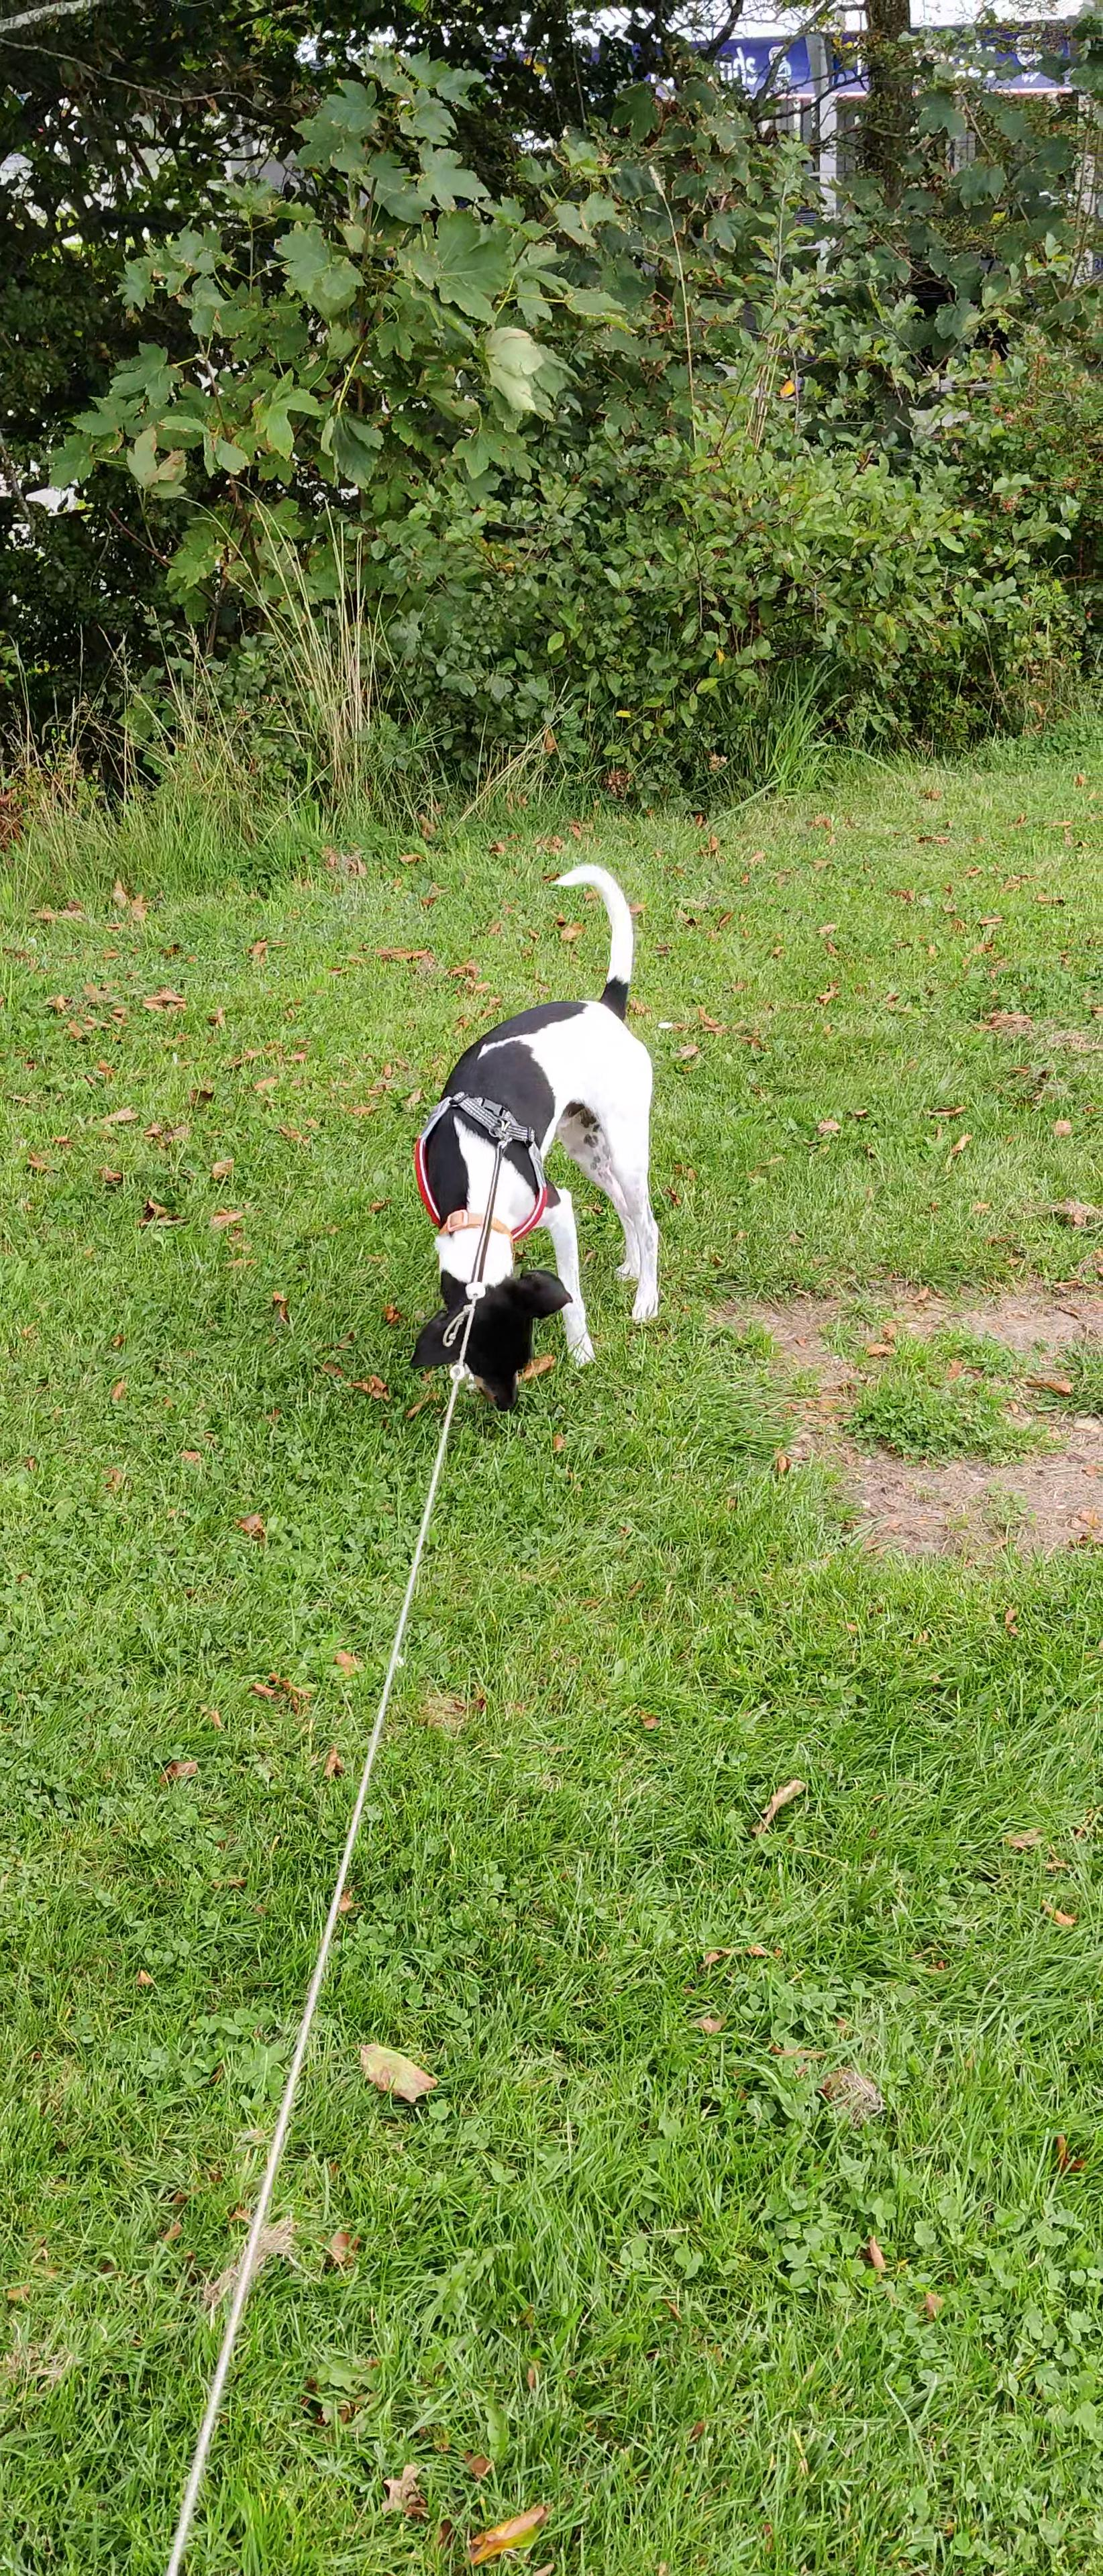Dog: (399, 858, 669, 1423)
